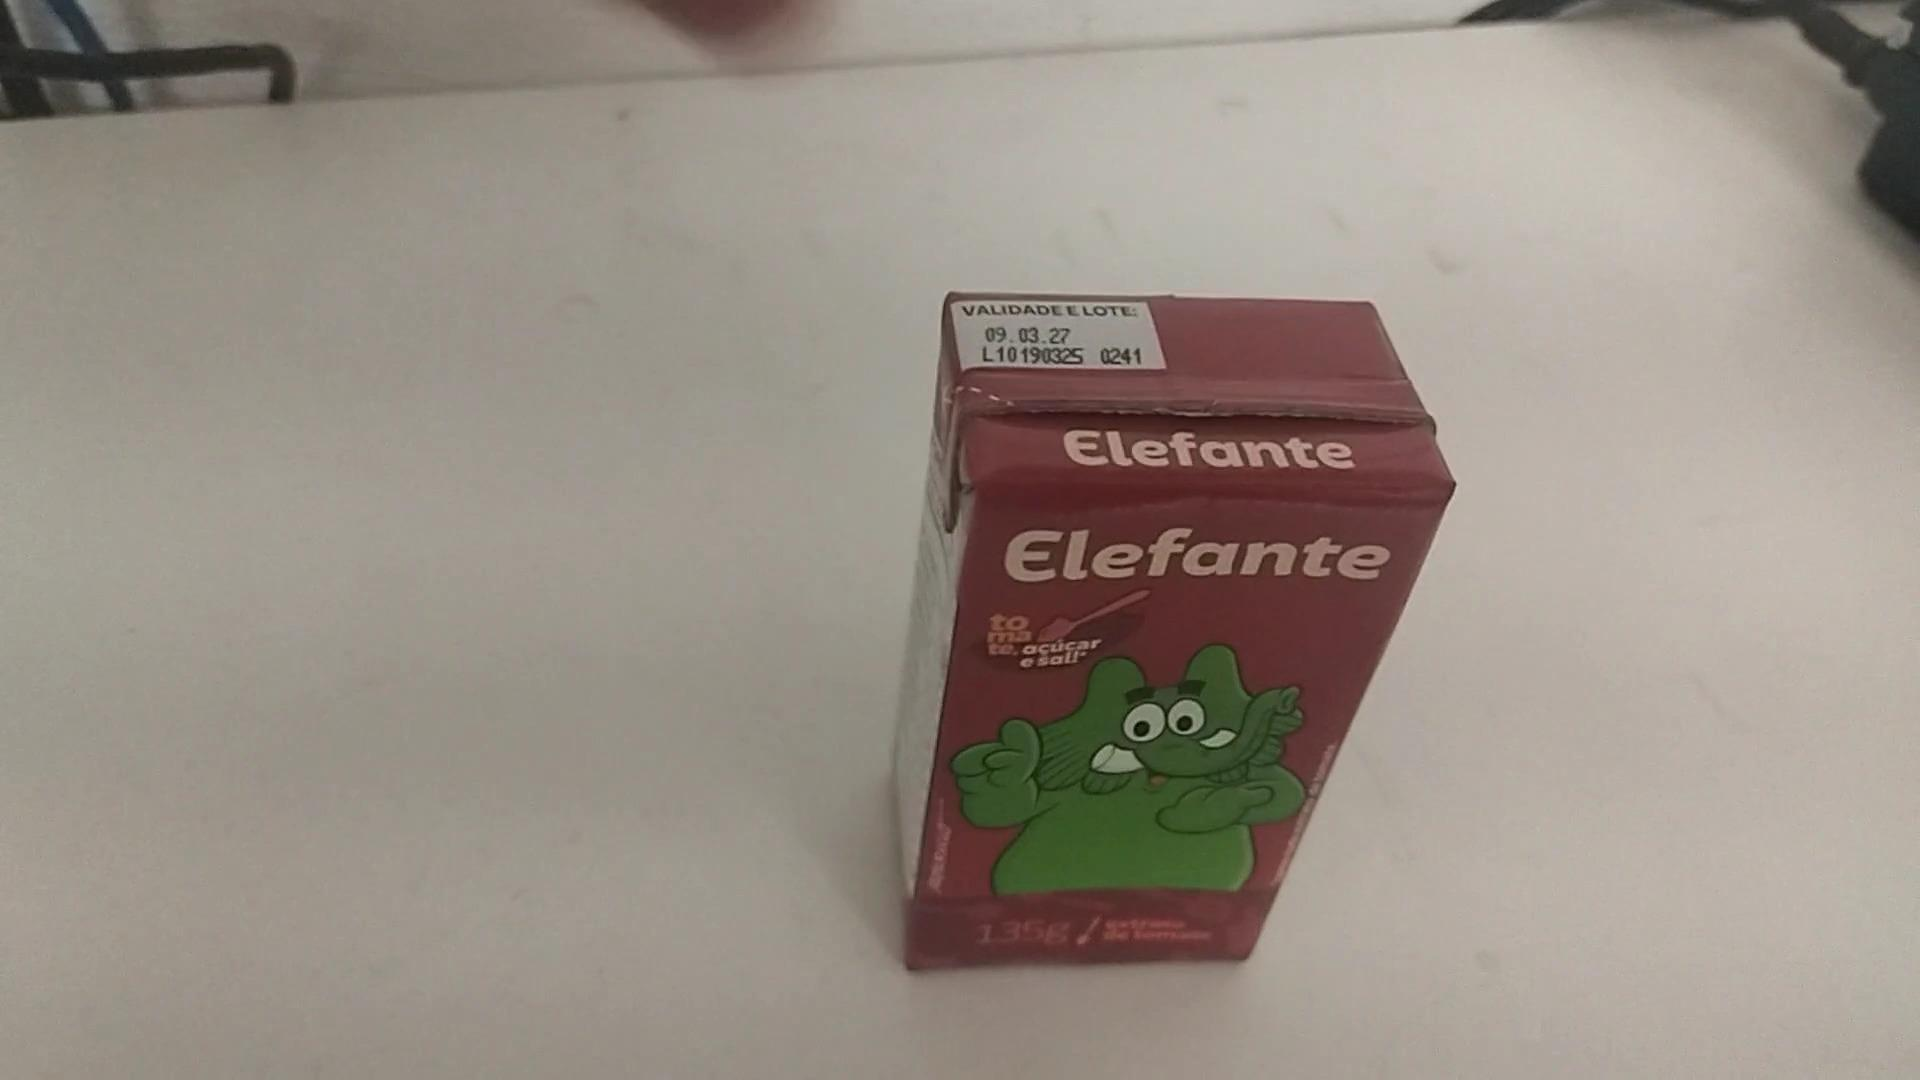tomate: (824, 273, 1487, 1004)
